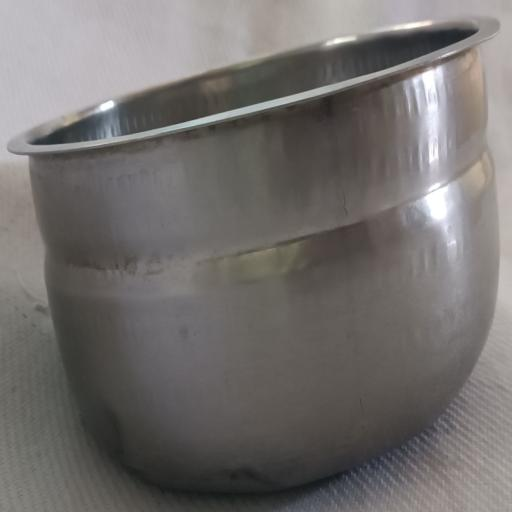vessel: (8, 18, 499, 491)
